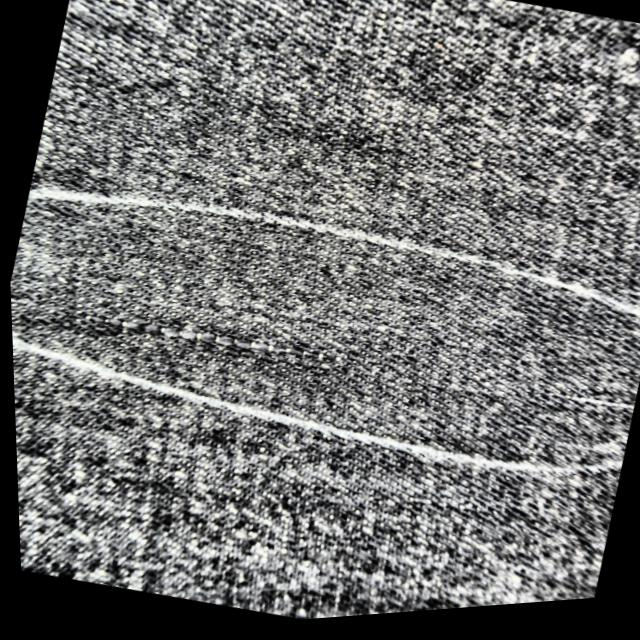Hole: (9, 313, 339, 369)
